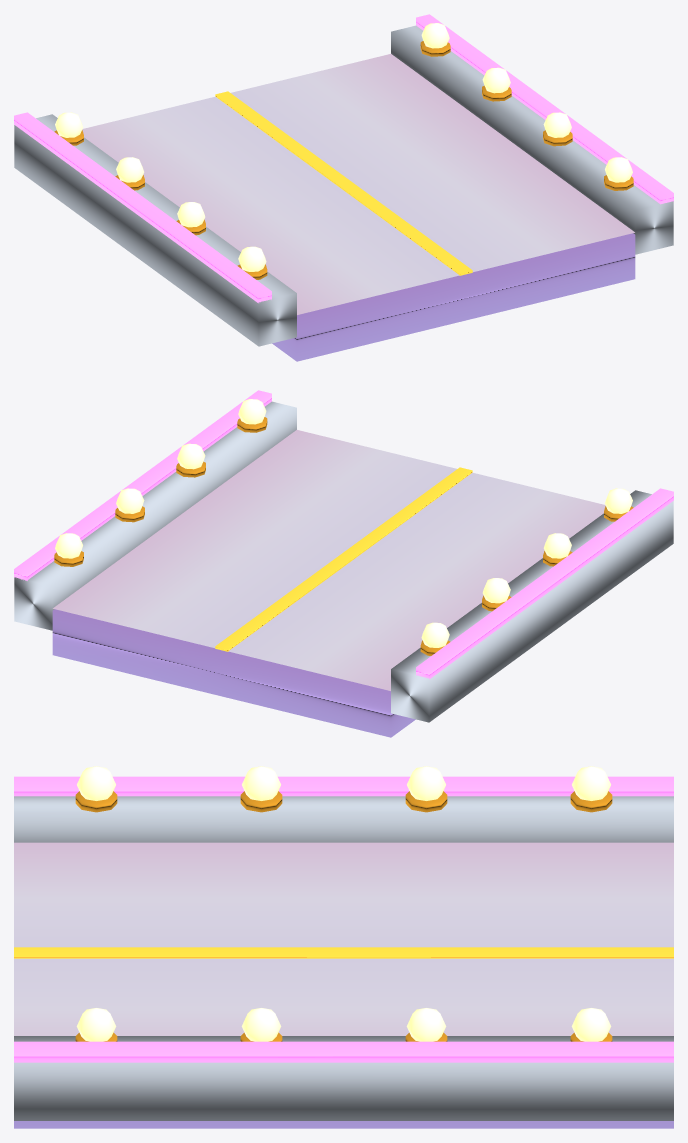
File: runway.glb
3 views of the same model, one above another, from view 1: azimuth 30°, elevation 25°; view 2: azimuth 150°, elevation 25°; view 3: azimuth 270°, elevation 25° (orthographic). The views are drawn at different scales.
Parts seen in each view (by area): view 1: Deck, Rails, Inlay; view 2: Deck, Rails, Inlay; view 3: Deck, Rails, Inlay.
Boxes of the visible parts, bbox=[...] form: Deck: bbox=[82, 54, 635, 361]; Rails: bbox=[14, 14, 673, 346]; Inlay: bbox=[215, 91, 472, 275]; Deck: bbox=[52, 430, 605, 737]; Rails: bbox=[14, 390, 673, 722]; Inlay: bbox=[215, 467, 472, 651]; Deck: bbox=[14, 842, 673, 1128]; Rails: bbox=[14, 766, 673, 1120]; Inlay: bbox=[14, 947, 673, 958].
Bounding box in the file's own units: 0.982 × 0.2165 × 1.
